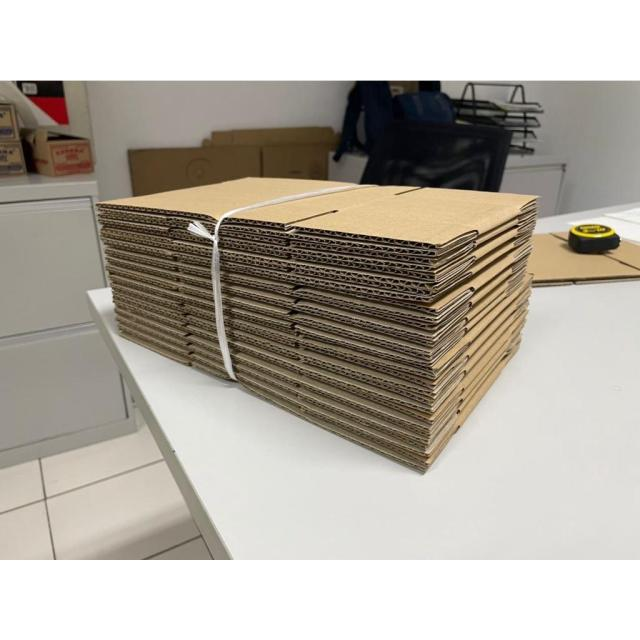cardboard: (96, 176, 542, 477)
